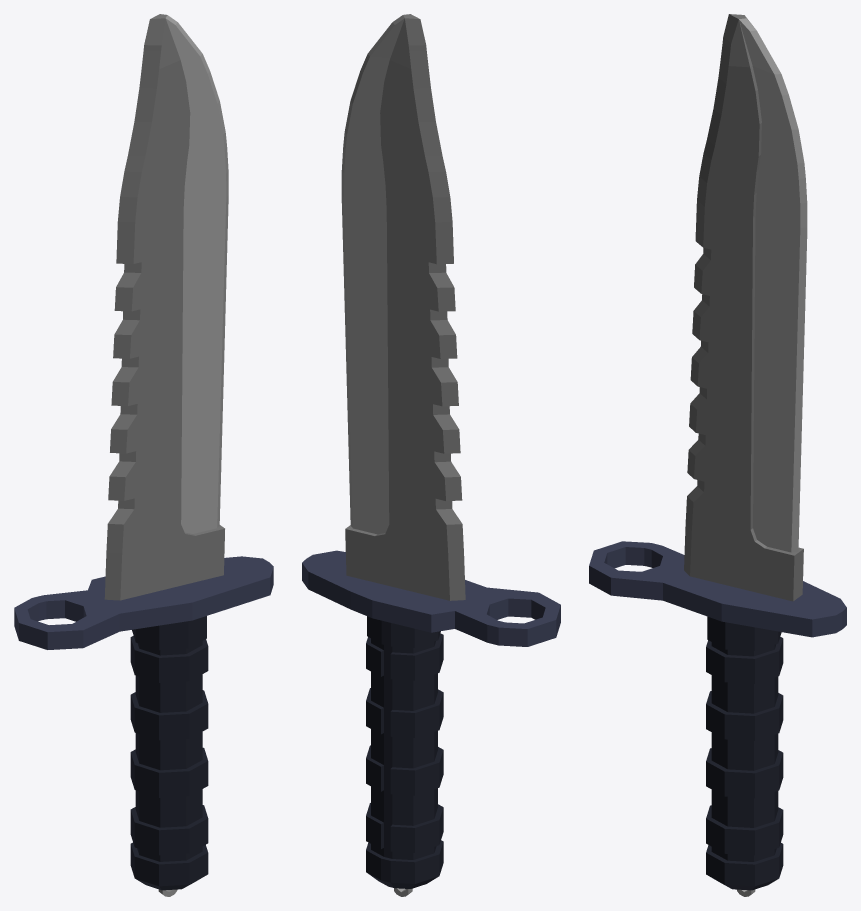
File: SM_CombatKnife.fbx
The picture shows the model from 3 angles, left to right: view 1: azimuth 30°, elevation 25°; view 2: azimuth 150°, elevation 25°; view 3: azimuth 330°, elevation 25°; orthographic projection.
Parts seen in each view (by area): view 1: M.CombatKnife; view 2: M.CombatKnife; view 3: M.CombatKnife.
Part boxes in pixels (x1,y1,x2,y2): M.CombatKnife: (14, 14, 273, 896); M.CombatKnife: (302, 14, 560, 896); M.CombatKnife: (589, 14, 846, 896).
Bounding box in the file's own units: 62.65 × 211 × 21.52.
